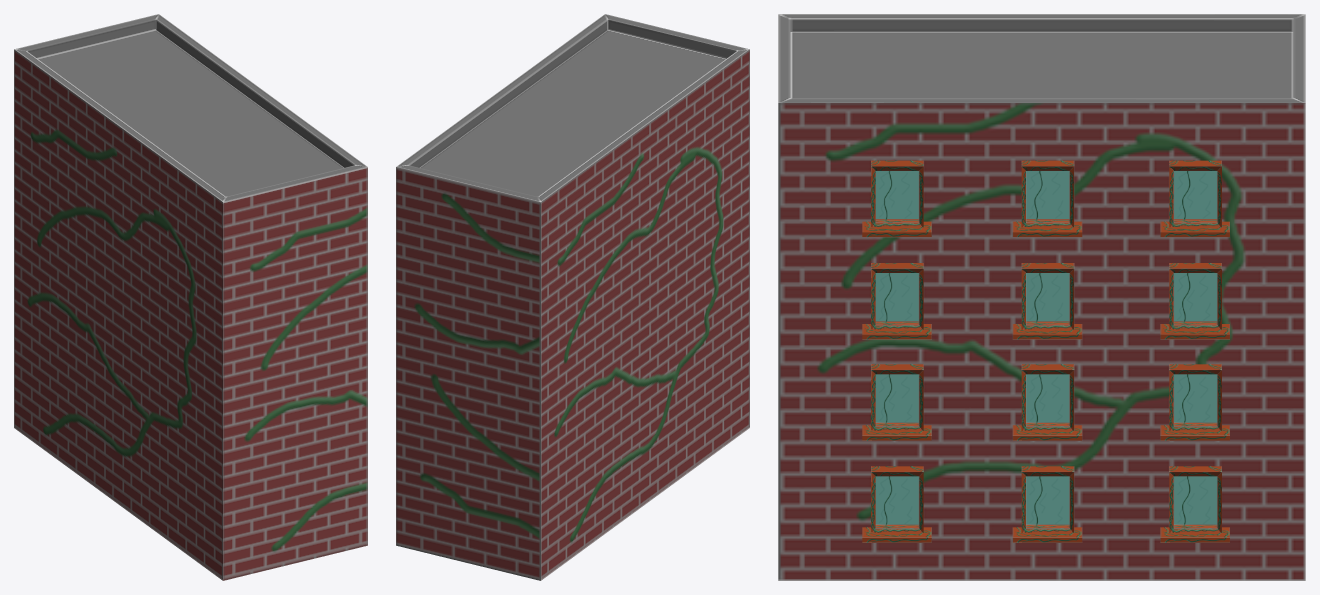
The model's file is Apartment_3x4.fbx.
3 renders of one model, left to right at view 1: azimuth 30°, elevation 25°; view 2: azimuth 150°, elevation 25°; view 3: azimuth 270°, elevation 25°, orthographic. The views are drawn at different scales.
Parts seen in each view (by area): view 1: pCube119; view 2: pCube119; view 3: pCube119.
Part boxes in pixels (left/top/right/bottom): pCube119: left=14, top=14, right=367, bottom=580; pCube119: left=396, top=14, right=749, bottom=580; pCube119: left=778, top=14, right=1305, bottom=580.
Bounding box in the file's own units: 4.47 × 10 × 10.
